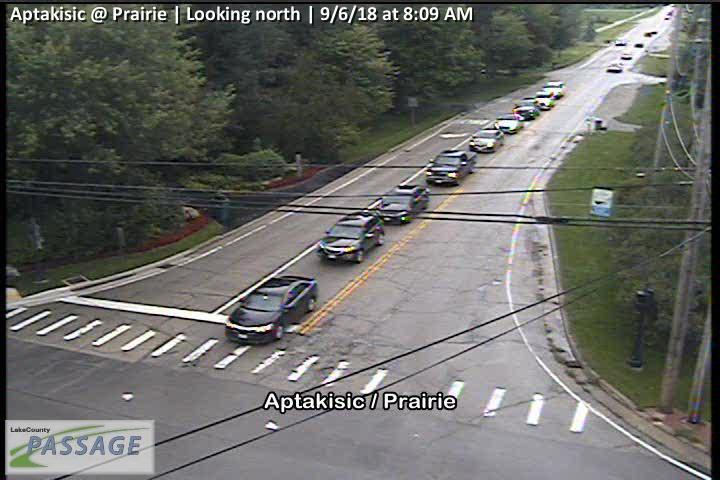SUV: (316, 213, 386, 263), (543, 80, 566, 97), (536, 92, 553, 110)
Sedan: (225, 274, 318, 344), (375, 183, 430, 224), (470, 128, 503, 153), (494, 113, 524, 134), (514, 106, 539, 119), (606, 63, 624, 71), (620, 51, 633, 59), (614, 37, 626, 45)
Truck: (425, 150, 477, 187)
